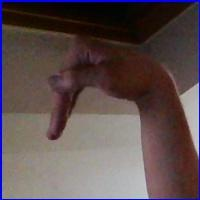A: (44, 32, 172, 152)
